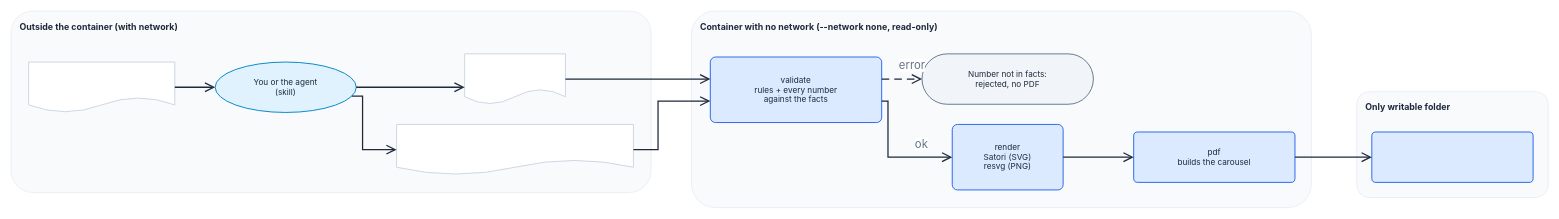
This 1559x219 diagram has some shape labels left out. The centre of each missing label's shape, as x and y in pixels:
facts.md number + literal quote + link: (x=515, y=149)
Original source (article, report): (x=101, y=87)
out/ PNGs + carousel.pdf: (x=1452, y=157)
slides.json slide text: (x=515, y=78)
